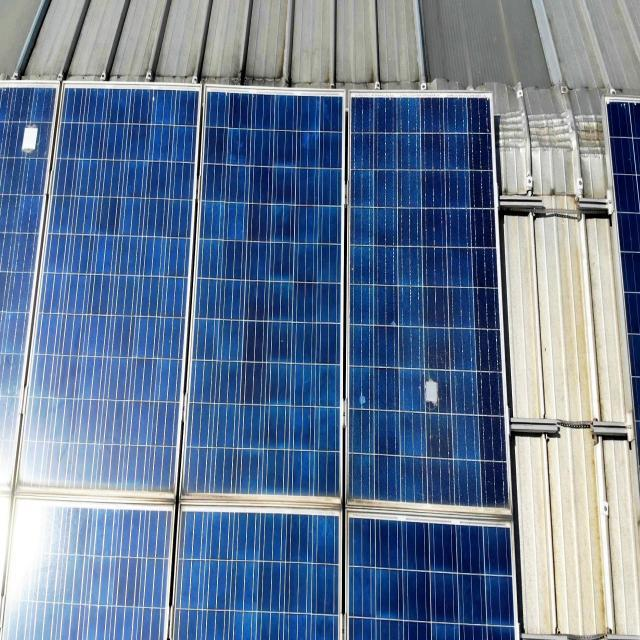faulty: (343, 95, 512, 515), (1, 84, 61, 184)
no faulty: (18, 84, 201, 504), (182, 88, 354, 508)
